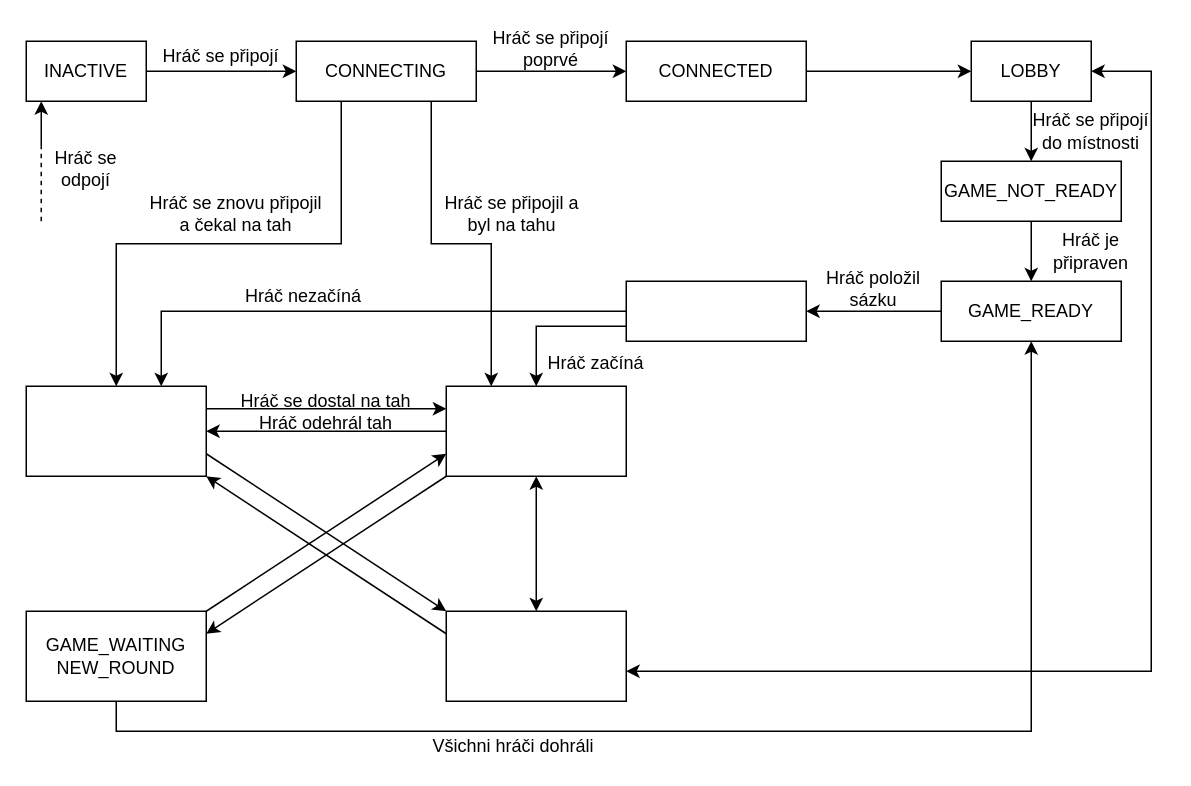
This 1191x786 diagram has some shape labels left out. The centre of each missing label's shape, as x and y in pixels:
"GAME_PLACED_BET" goes at point (715, 310).
"GAME_TURN" goes at point (535, 430).
"GAME_WAITING" goes at point (115, 430).
"GAME_WAITING END" goes at point (535, 655).
